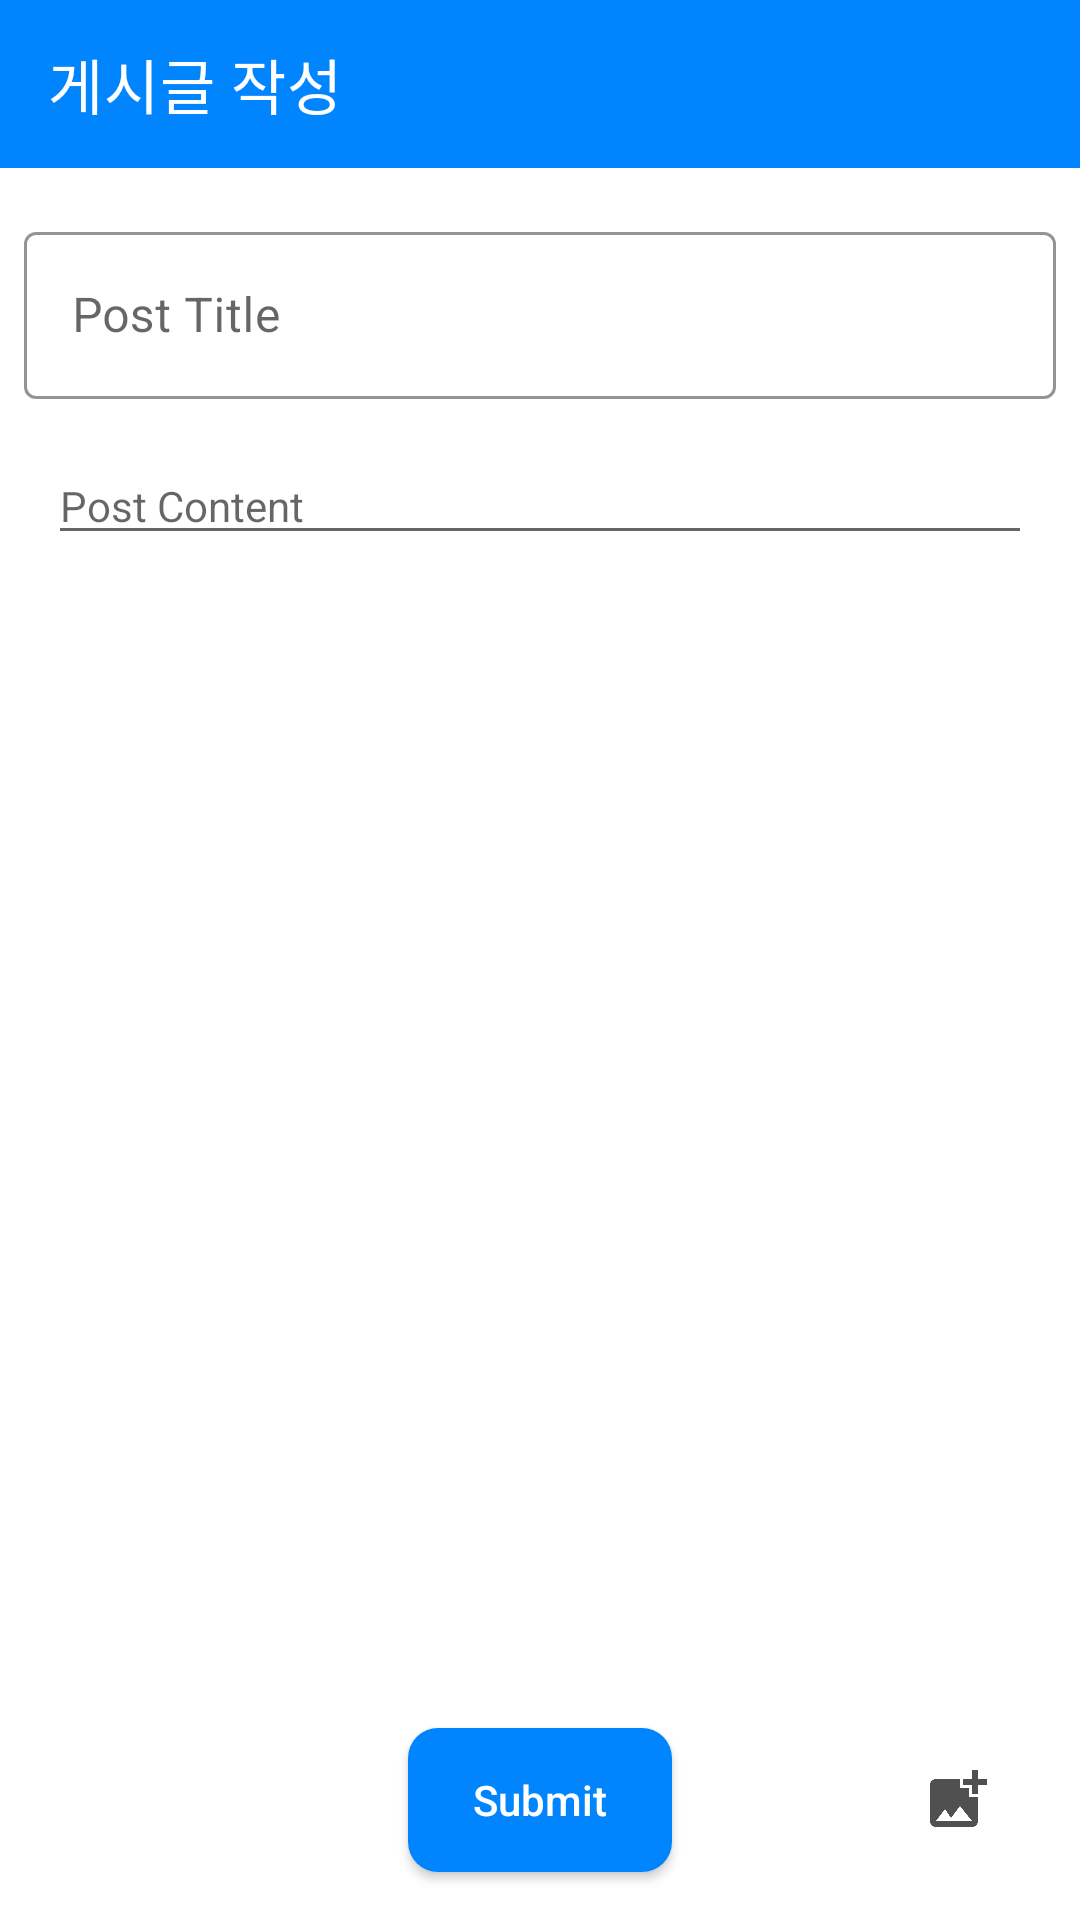

Icons on this 1080px×1920px Android screen, each with its box as [x1=x1, y1=y1, x2=x2, y2=y2]:
add photo alternate: [x1=930, y1=1770, x2=987, y2=1827]
